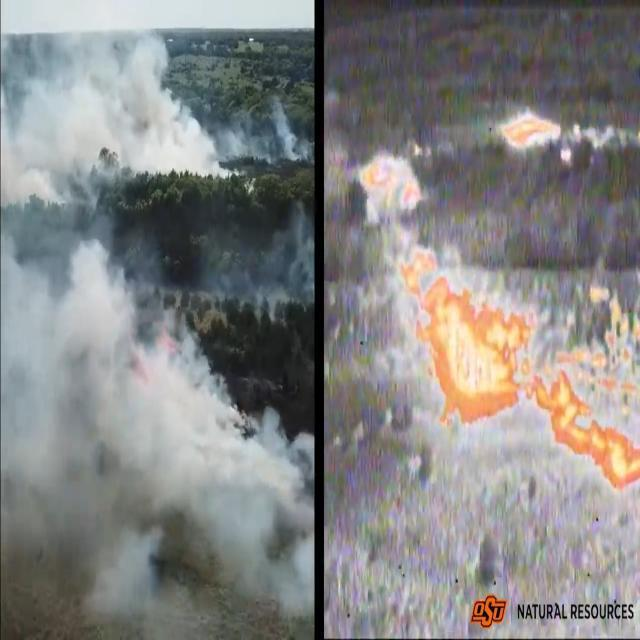fire: (399, 247, 539, 432), (535, 284, 640, 498), (500, 109, 574, 170), (360, 151, 424, 216)
